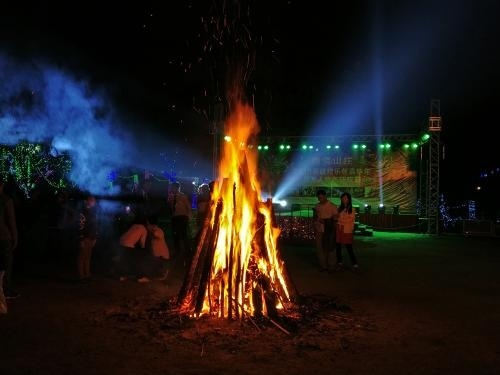fire: (206, 95, 286, 306)
